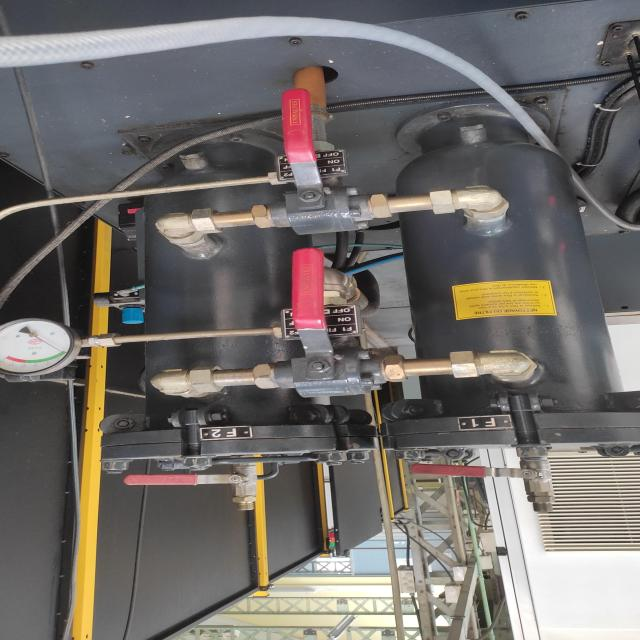closed_valve: (252, 247, 404, 400), (247, 88, 388, 237), (407, 457, 567, 503), (121, 465, 264, 503)
